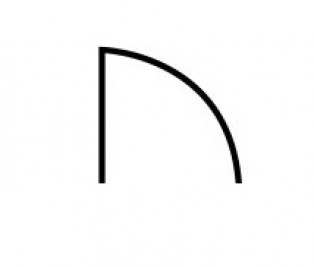door: (88, 41, 252, 196)
